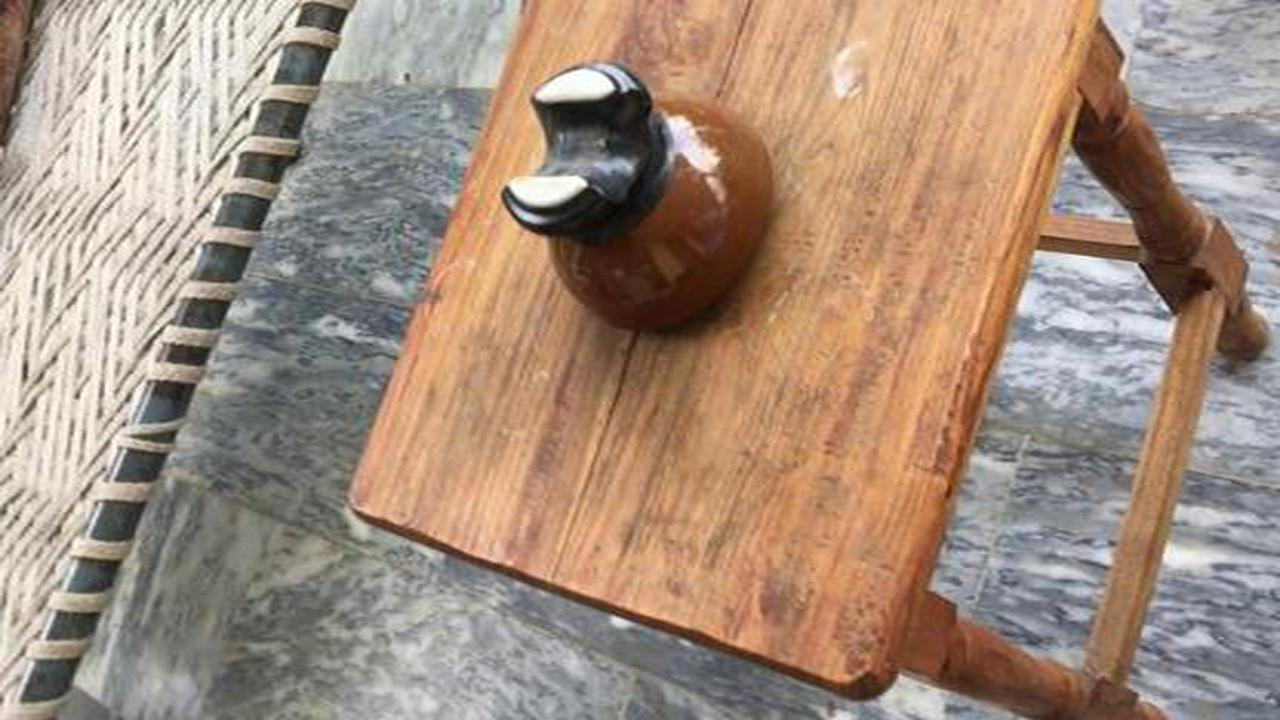insulator_pin: (490, 51, 797, 352)
